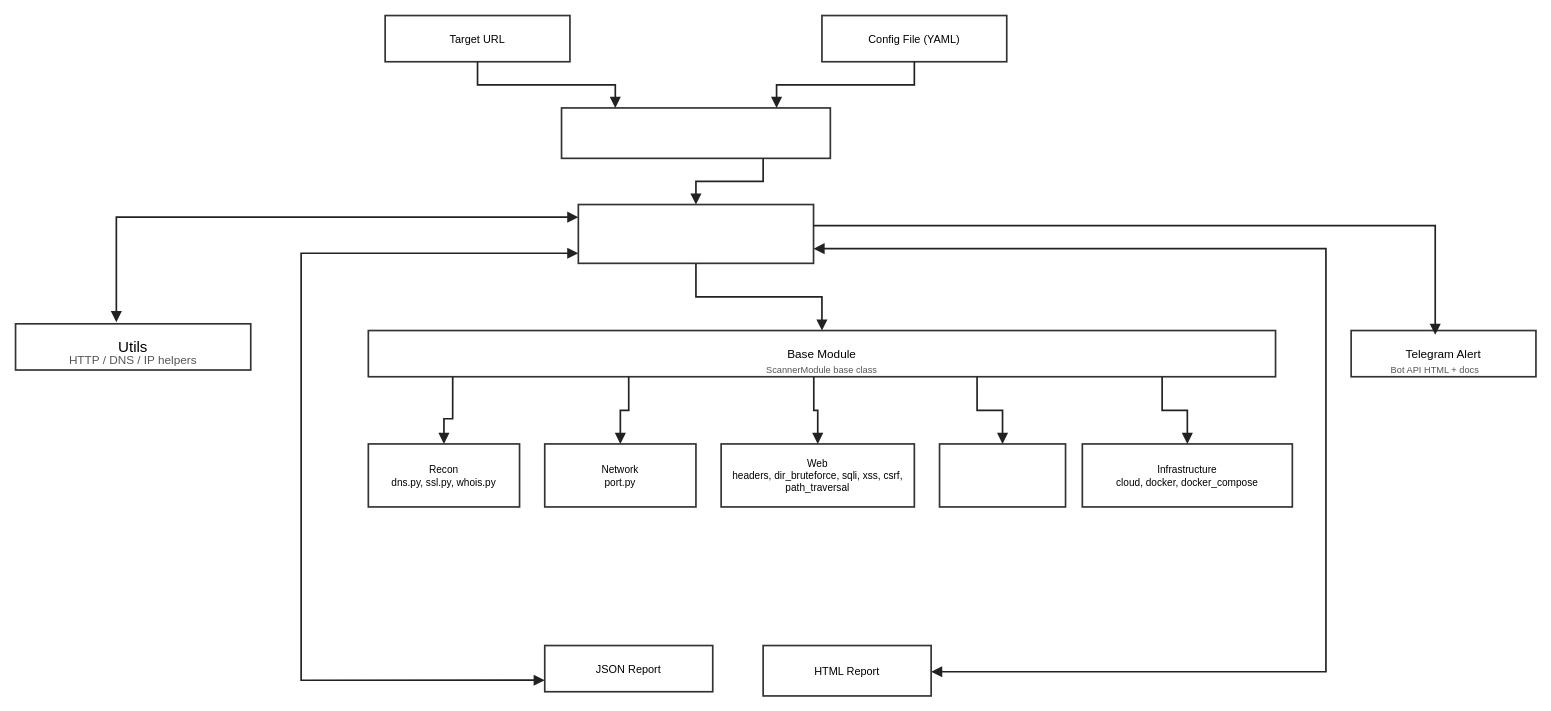
Image size: 1551x711. Some labels were removed from this diagram. The centre of each missing label's shape, as x and y in pixels:
"fabula.py (CLI Entry)" goes at (x=695, y=133).
"ScanEngine" goes at (x=695, y=233).
"Secrets hardcoded.py" goes at (x=1002, y=475).
